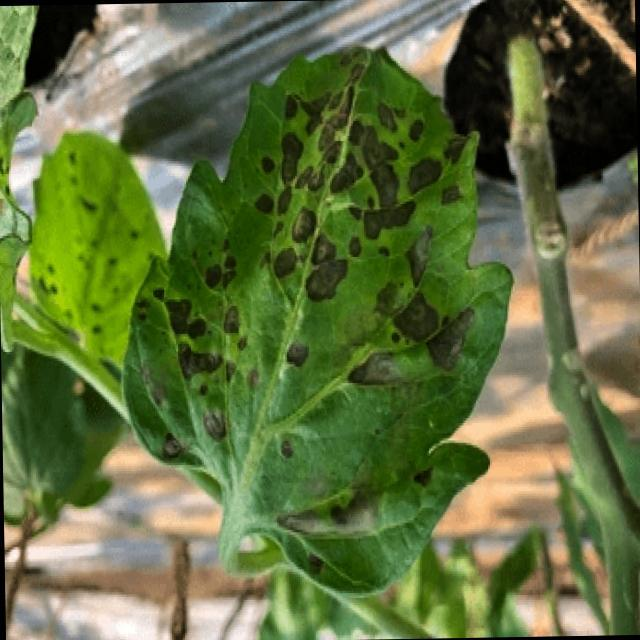Tomato bacterial spot leaf: (116, 34, 527, 610), (27, 117, 175, 370)
